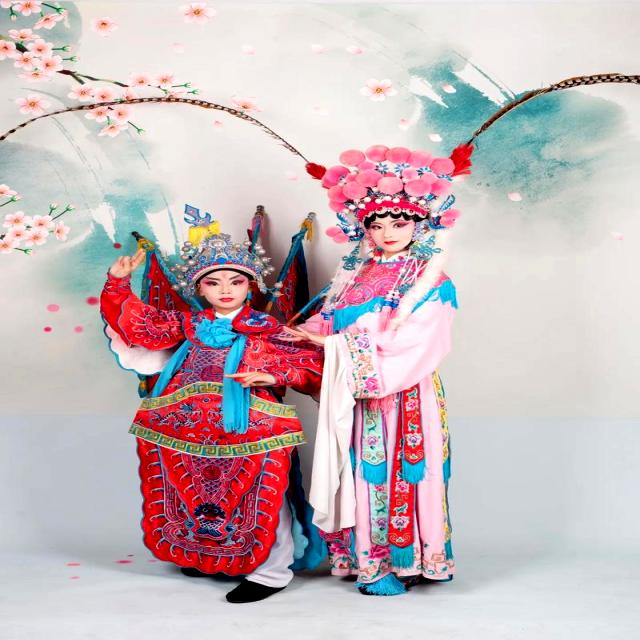Reeves-s Pheasant: (0, 95, 319, 178), (461, 73, 639, 151)
